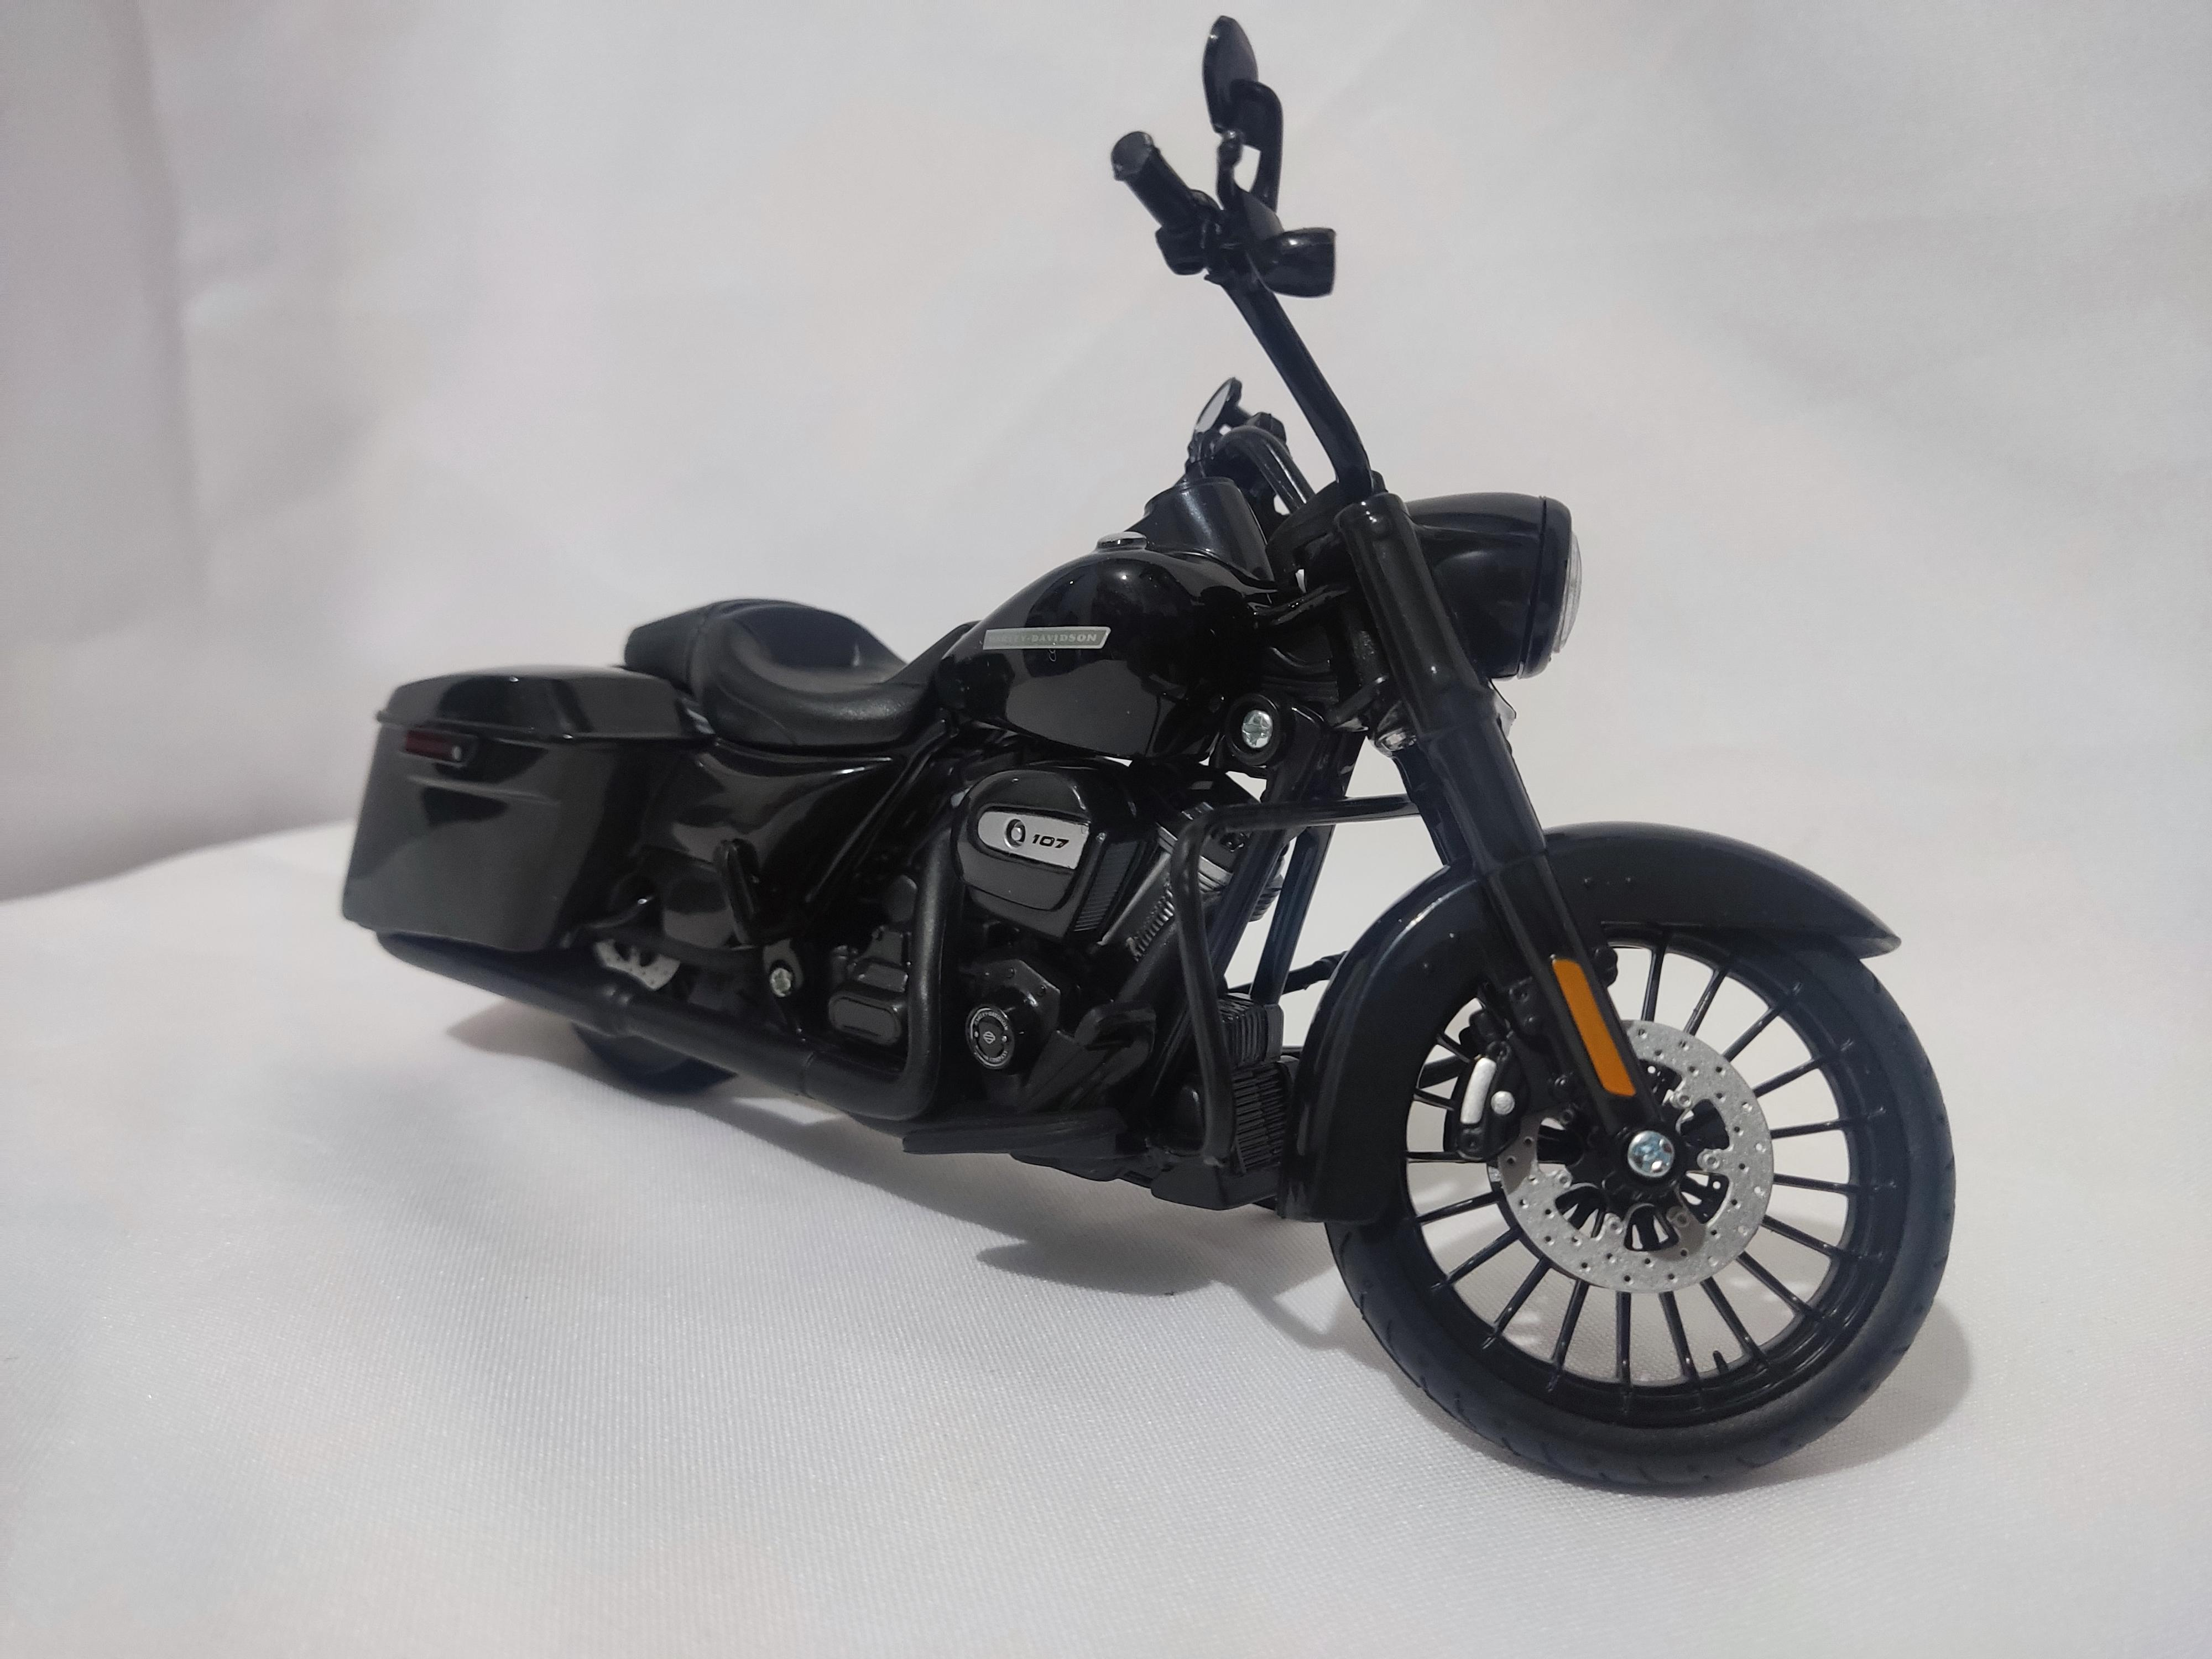Motorcycle: (315, 17, 2003, 1509)
